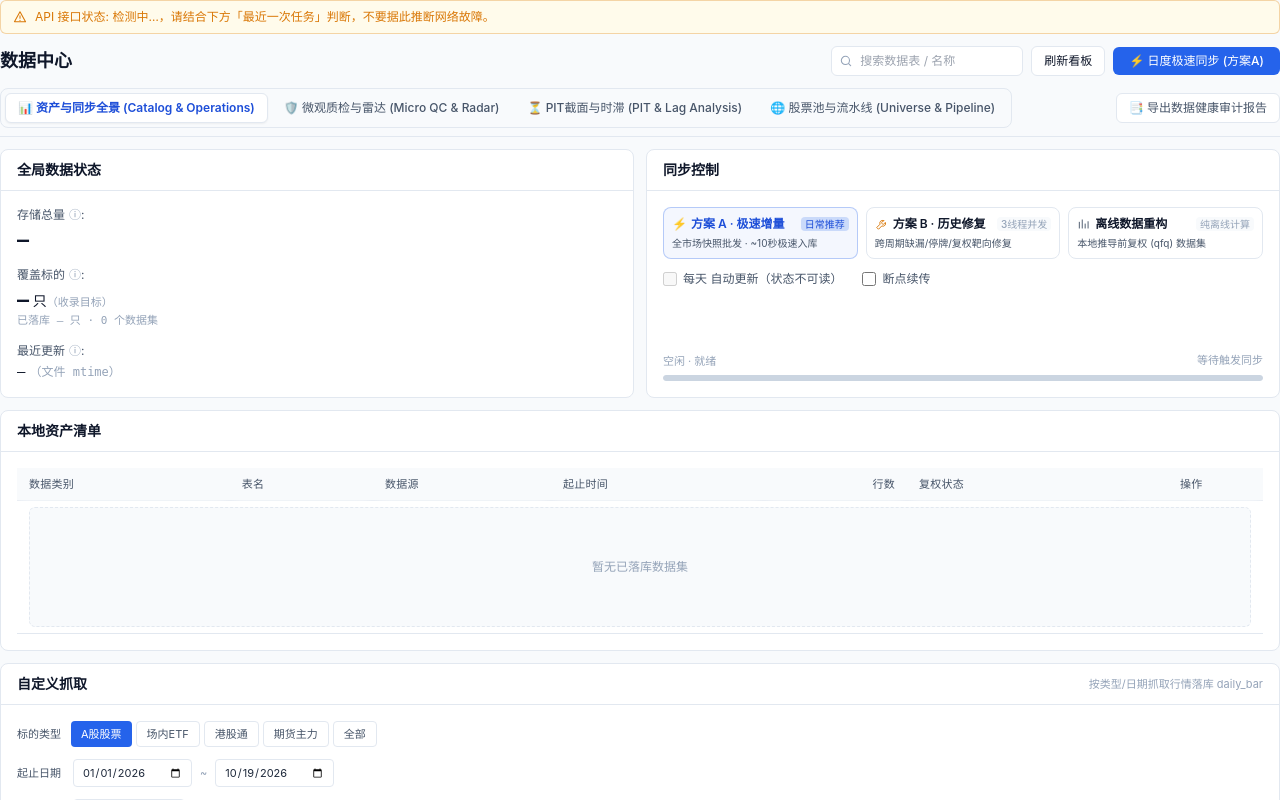
Test: 数据中心进化工作台 (DataCenter Evolution) › 切换到「微观质检与雷达」Tab 成功渲染质检雷达与隔离沙盒
Click the button "🛡️ 微观质检与雷达 (Micro QC & Radar)" at (392, 108), box [272,93,512,123]
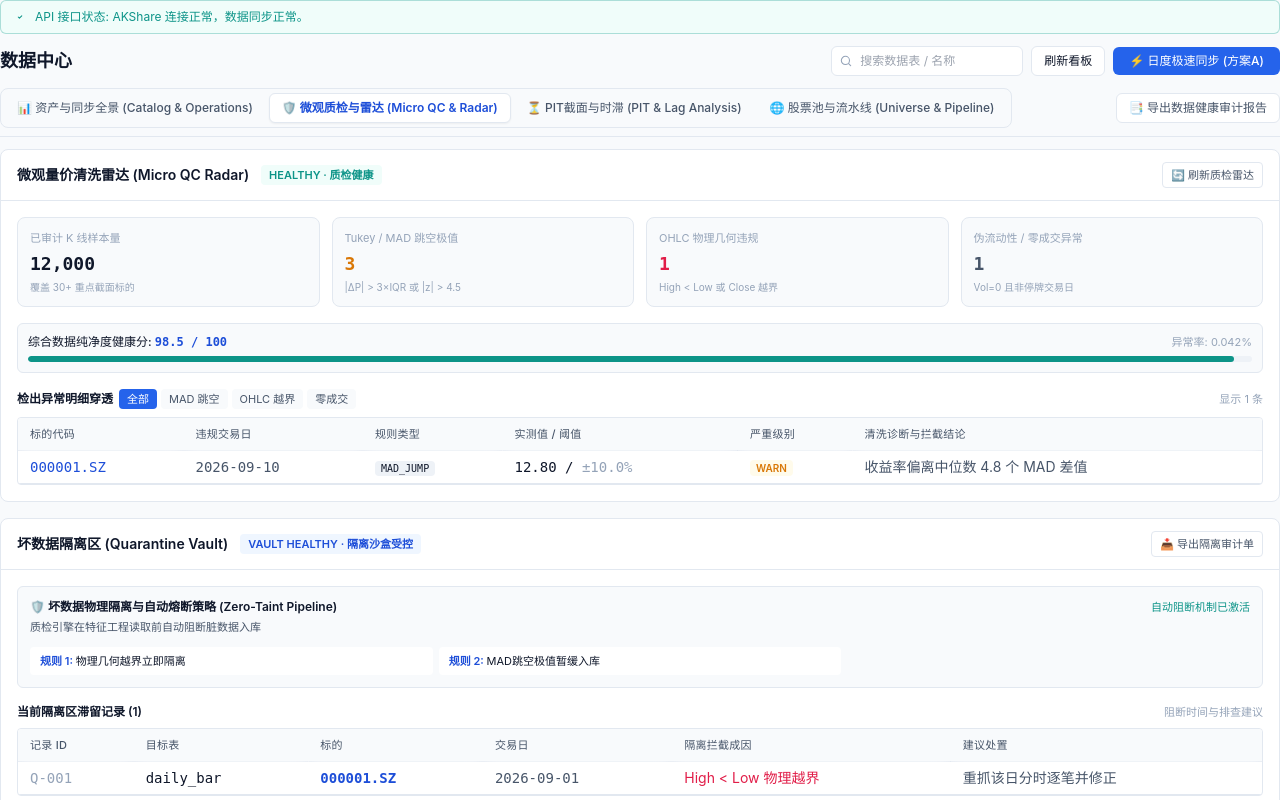
Now the heading "微观量价清洗雷达 (Micro QC Radar)" is shown, box [17,165,249,185]
Now the text "98.5 / 100" is shown, box [155,335,227,349]
Now the heading "坏数据隔离区 (Quarantine Vault)" is shown, box [17,534,228,554]
